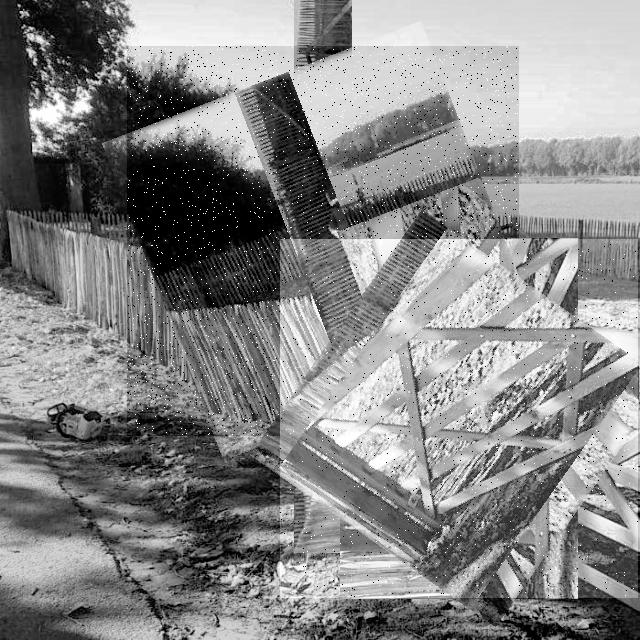fences: (127, 46, 519, 436), (280, 239, 638, 598)
